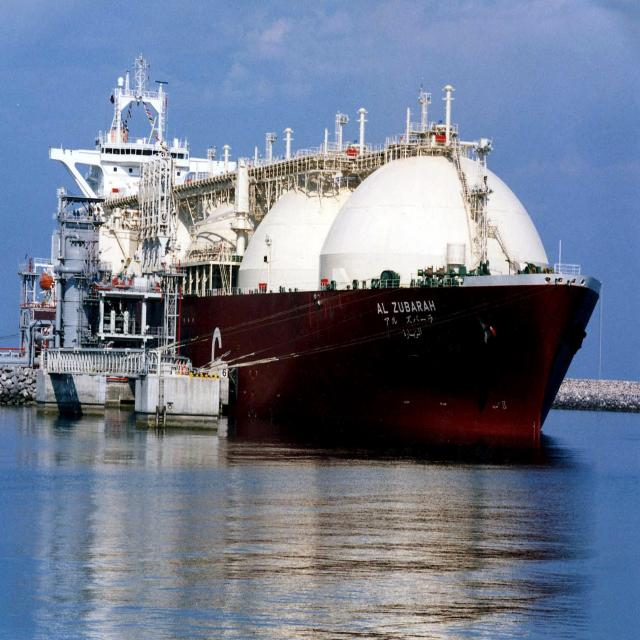boat: (38, 57, 604, 446)
